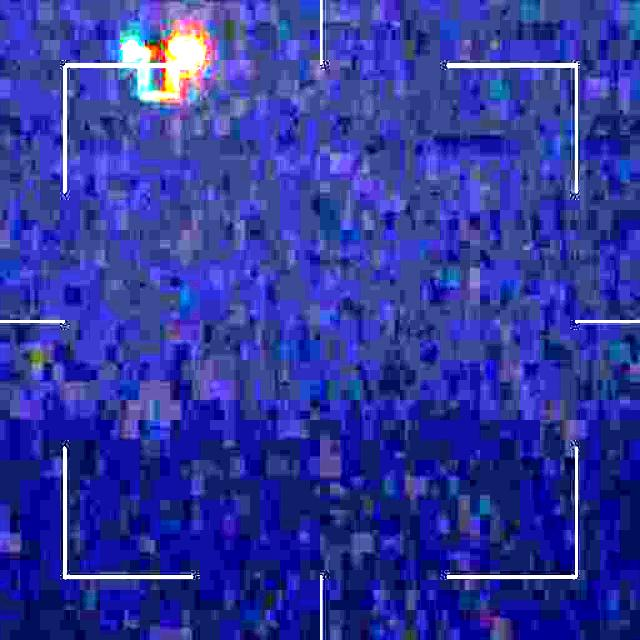bird: (115, 22, 202, 112)
